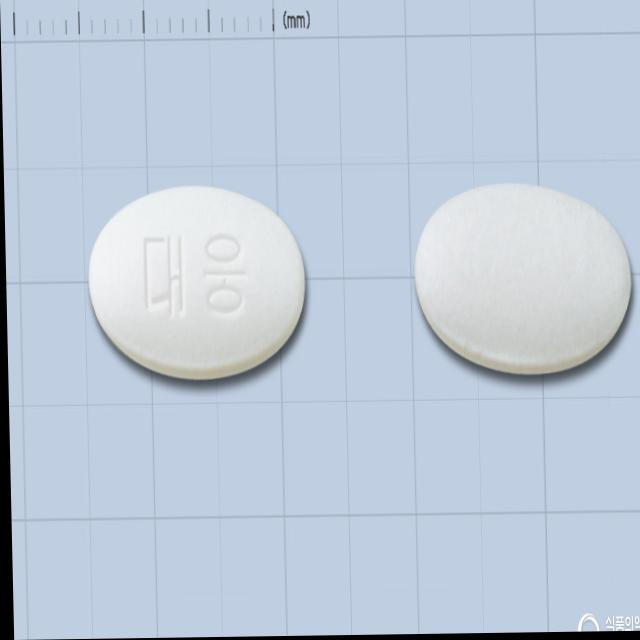Clao: (411, 181, 634, 382), (84, 187, 307, 385)
